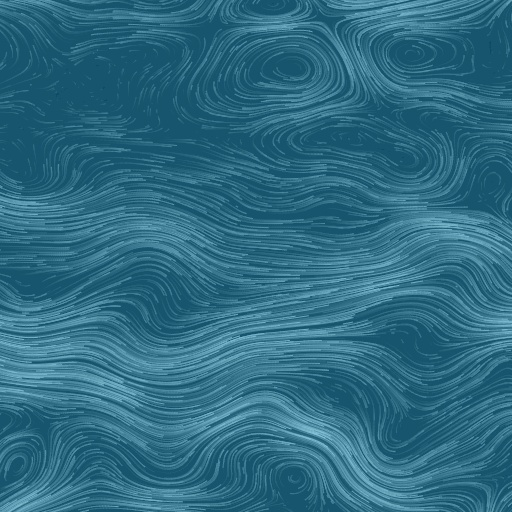eddy: (285, 119, 433, 184), (228, 35, 340, 107), (377, 30, 468, 78), (1, 444, 39, 492), (279, 459, 315, 499)
